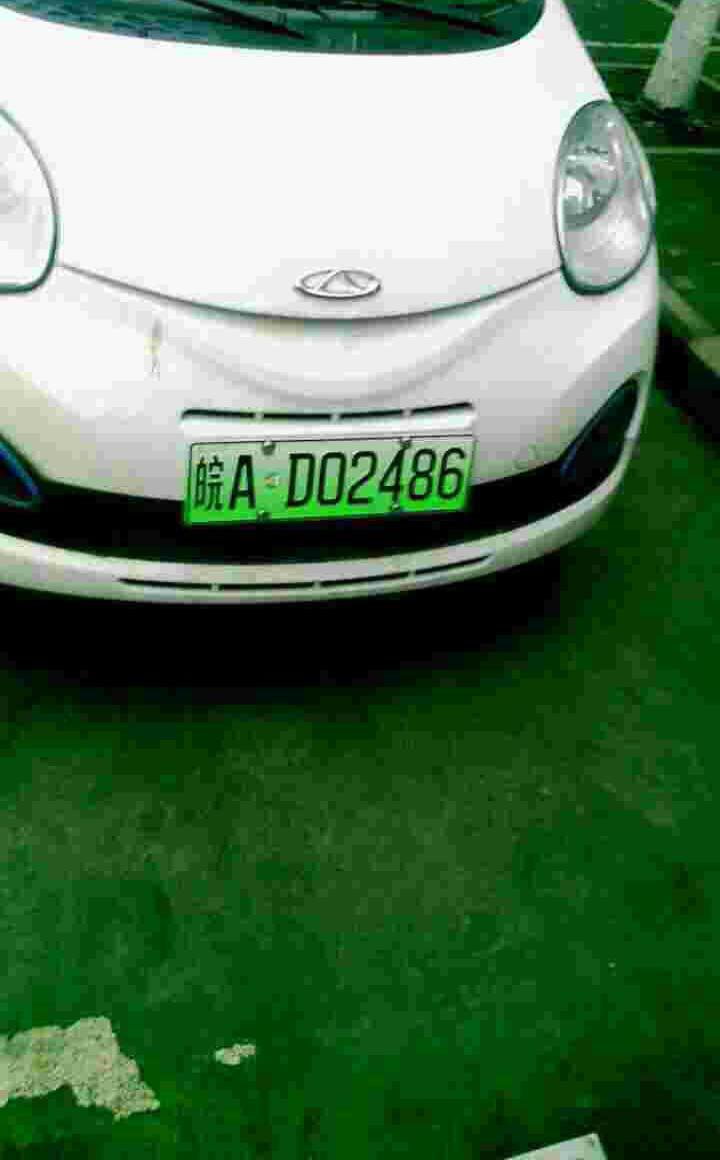car: (186, 429, 492, 539)
